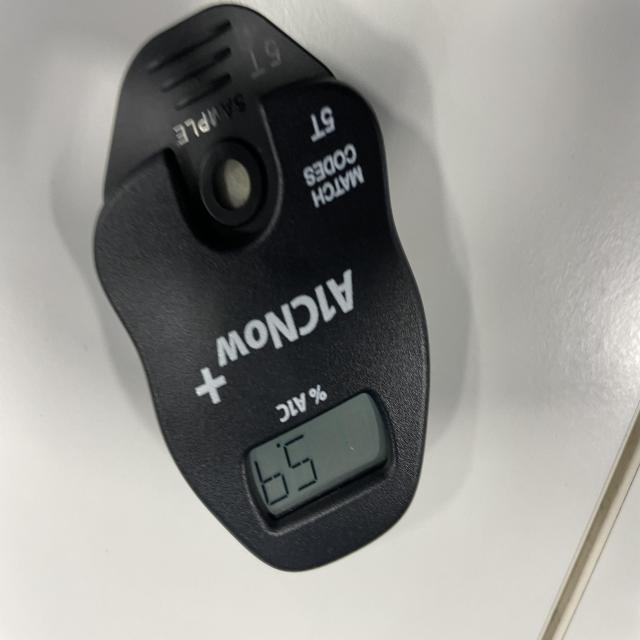hba1c: (91, 5, 432, 576)
